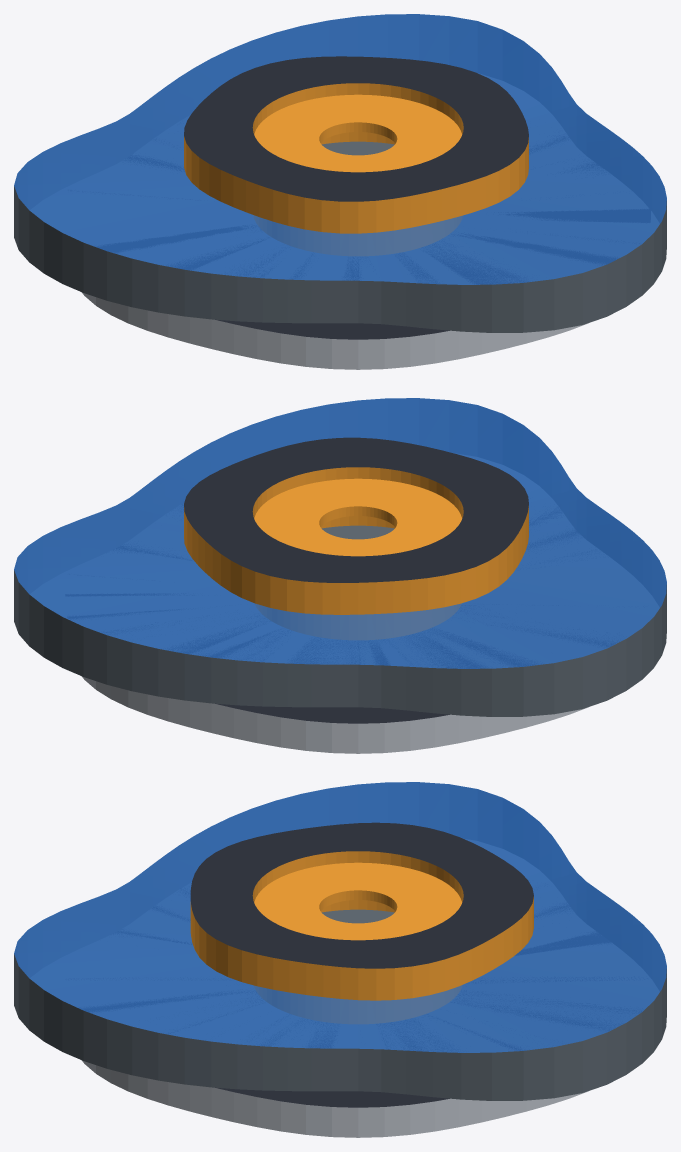
The model's file is assembly_phase2a_storm_fang.glb.
The picture shows the model from 3 angles, top to bottom: view 1: azimuth 30°, elevation 25°; view 2: azimuth 150°, elevation 25°; view 3: azimuth 270°, elevation 25°; orthographic projection.
Visible parts, largest first — view 1: GEO_blade_storm_fang_BODY, GEO_core_solar_wolf_BODY, GEO_assist_heavy_BODY, GEO_core_solar_wolf_NSS_V1_COLLAR, GEO_blade_storm_fang_NSS_V1_COLLAR; view 2: GEO_blade_storm_fang_BODY, GEO_core_solar_wolf_BODY, GEO_assist_heavy_BODY, GEO_core_solar_wolf_NSS_V1_COLLAR, GEO_blade_storm_fang_NSS_V1_COLLAR; view 3: GEO_blade_storm_fang_BODY, GEO_core_solar_wolf_BODY, GEO_assist_heavy_BODY, GEO_core_solar_wolf_NSS_V1_COLLAR, GEO_blade_storm_fang_NSS_V1_COLLAR.
Boxes of the visible parts, x1=… form: GEO_blade_storm_fang_BODY: x1=14, y1=14, x2=666, y2=332; GEO_core_solar_wolf_BODY: x1=184, y1=56, x2=528, y2=233; GEO_assist_heavy_BODY: x1=81, y1=136, x2=650, y2=369; GEO_core_solar_wolf_NSS_V1_COLLAR: x1=254, y1=94, x2=462, y2=172; GEO_blade_storm_fang_NSS_V1_COLLAR: x1=321, y1=141, x2=394, y2=155; GEO_blade_storm_fang_BODY: x1=14, y1=398, x2=666, y2=716; GEO_core_solar_wolf_BODY: x1=184, y1=437, x2=528, y2=614; GEO_assist_heavy_BODY: x1=65, y1=504, x2=615, y2=753; GEO_core_solar_wolf_NSS_V1_COLLAR: x1=254, y1=478, x2=462, y2=556; GEO_blade_storm_fang_NSS_V1_COLLAR: x1=321, y1=525, x2=394, y2=539; GEO_blade_storm_fang_BODY: x1=14, y1=782, x2=666, y2=1100; GEO_core_solar_wolf_BODY: x1=190, y1=822, x2=533, y2=1000; GEO_assist_heavy_BODY: x1=79, y1=891, x2=641, y2=1137; GEO_core_solar_wolf_NSS_V1_COLLAR: x1=254, y1=862, x2=462, y2=940; GEO_blade_storm_fang_NSS_V1_COLLAR: x1=321, y1=909, x2=394, y2=923.
Bounding box in the file's own units: 0.0664 × 0.0239 × 0.0669.
